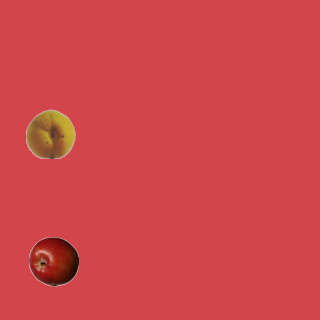Apple Braeburn: (28, 236, 78, 286)
Peach 2: (25, 108, 75, 158)
